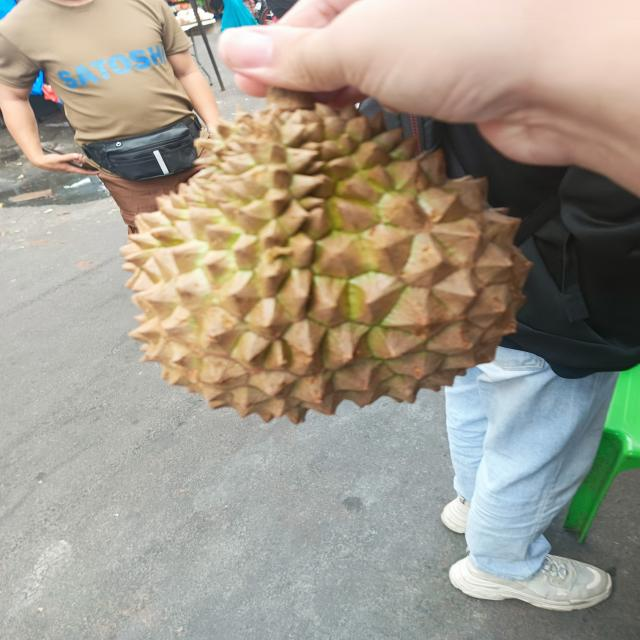mature: (117, 96, 534, 424)
